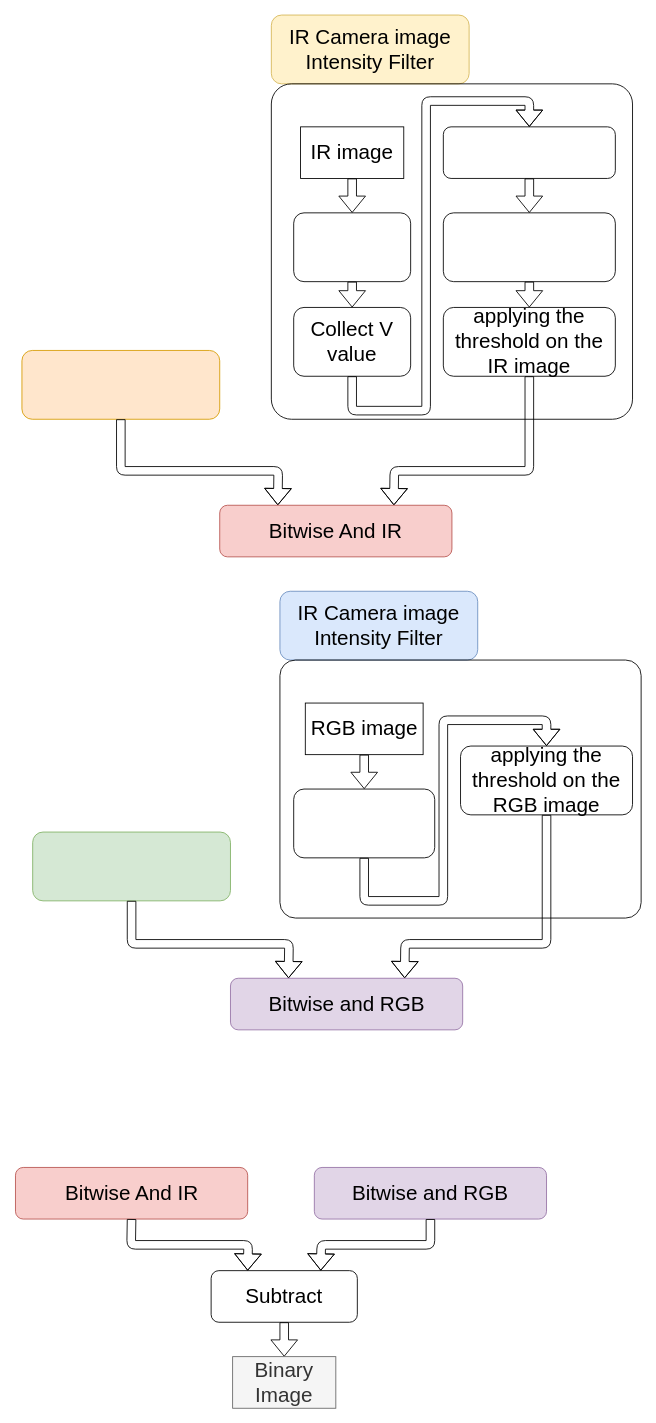
This 656x1423 diagram has some shape labels left out. The box of each missing label's shape, as (x1, y1, x2, y2) in pixels:
Change Colorspace into HSV: (293, 212, 411, 282)
find mean and stdDev: (442, 126, 615, 178)
IR Camera image Background Subtractor: (21, 350, 220, 419)
RGB Camera image Background Subtractor: (32, 831, 230, 901)
set mean+2*stdDev as threshold: (442, 212, 615, 282)
set R,G,B = 254,254,254 as threshold: (293, 788, 435, 858)
